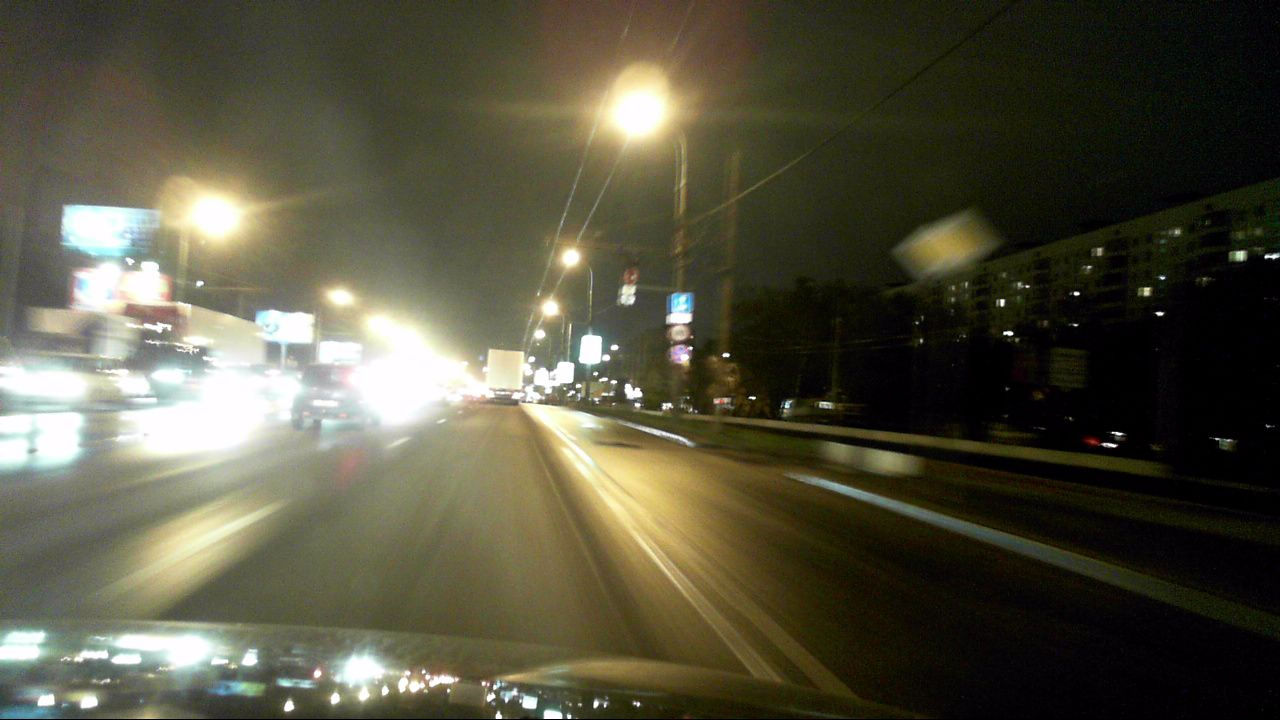No Parking: (670, 345, 689, 364)
